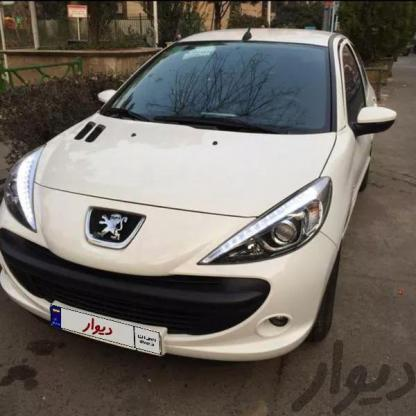Car: (0, 15, 382, 366)
